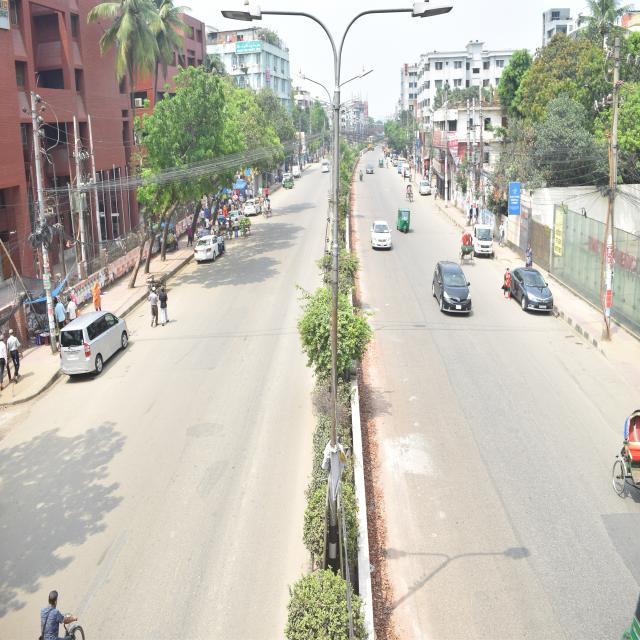car: (47, 304, 142, 405), (500, 246, 564, 350), (420, 242, 480, 332), (356, 204, 398, 286), (188, 220, 235, 282), (235, 175, 275, 236), (414, 177, 442, 204), (317, 146, 335, 186), (277, 162, 295, 196), (364, 158, 378, 182), (401, 162, 417, 179)
pickup-van: (458, 209, 501, 264), (288, 157, 310, 183), (358, 167, 366, 194)
